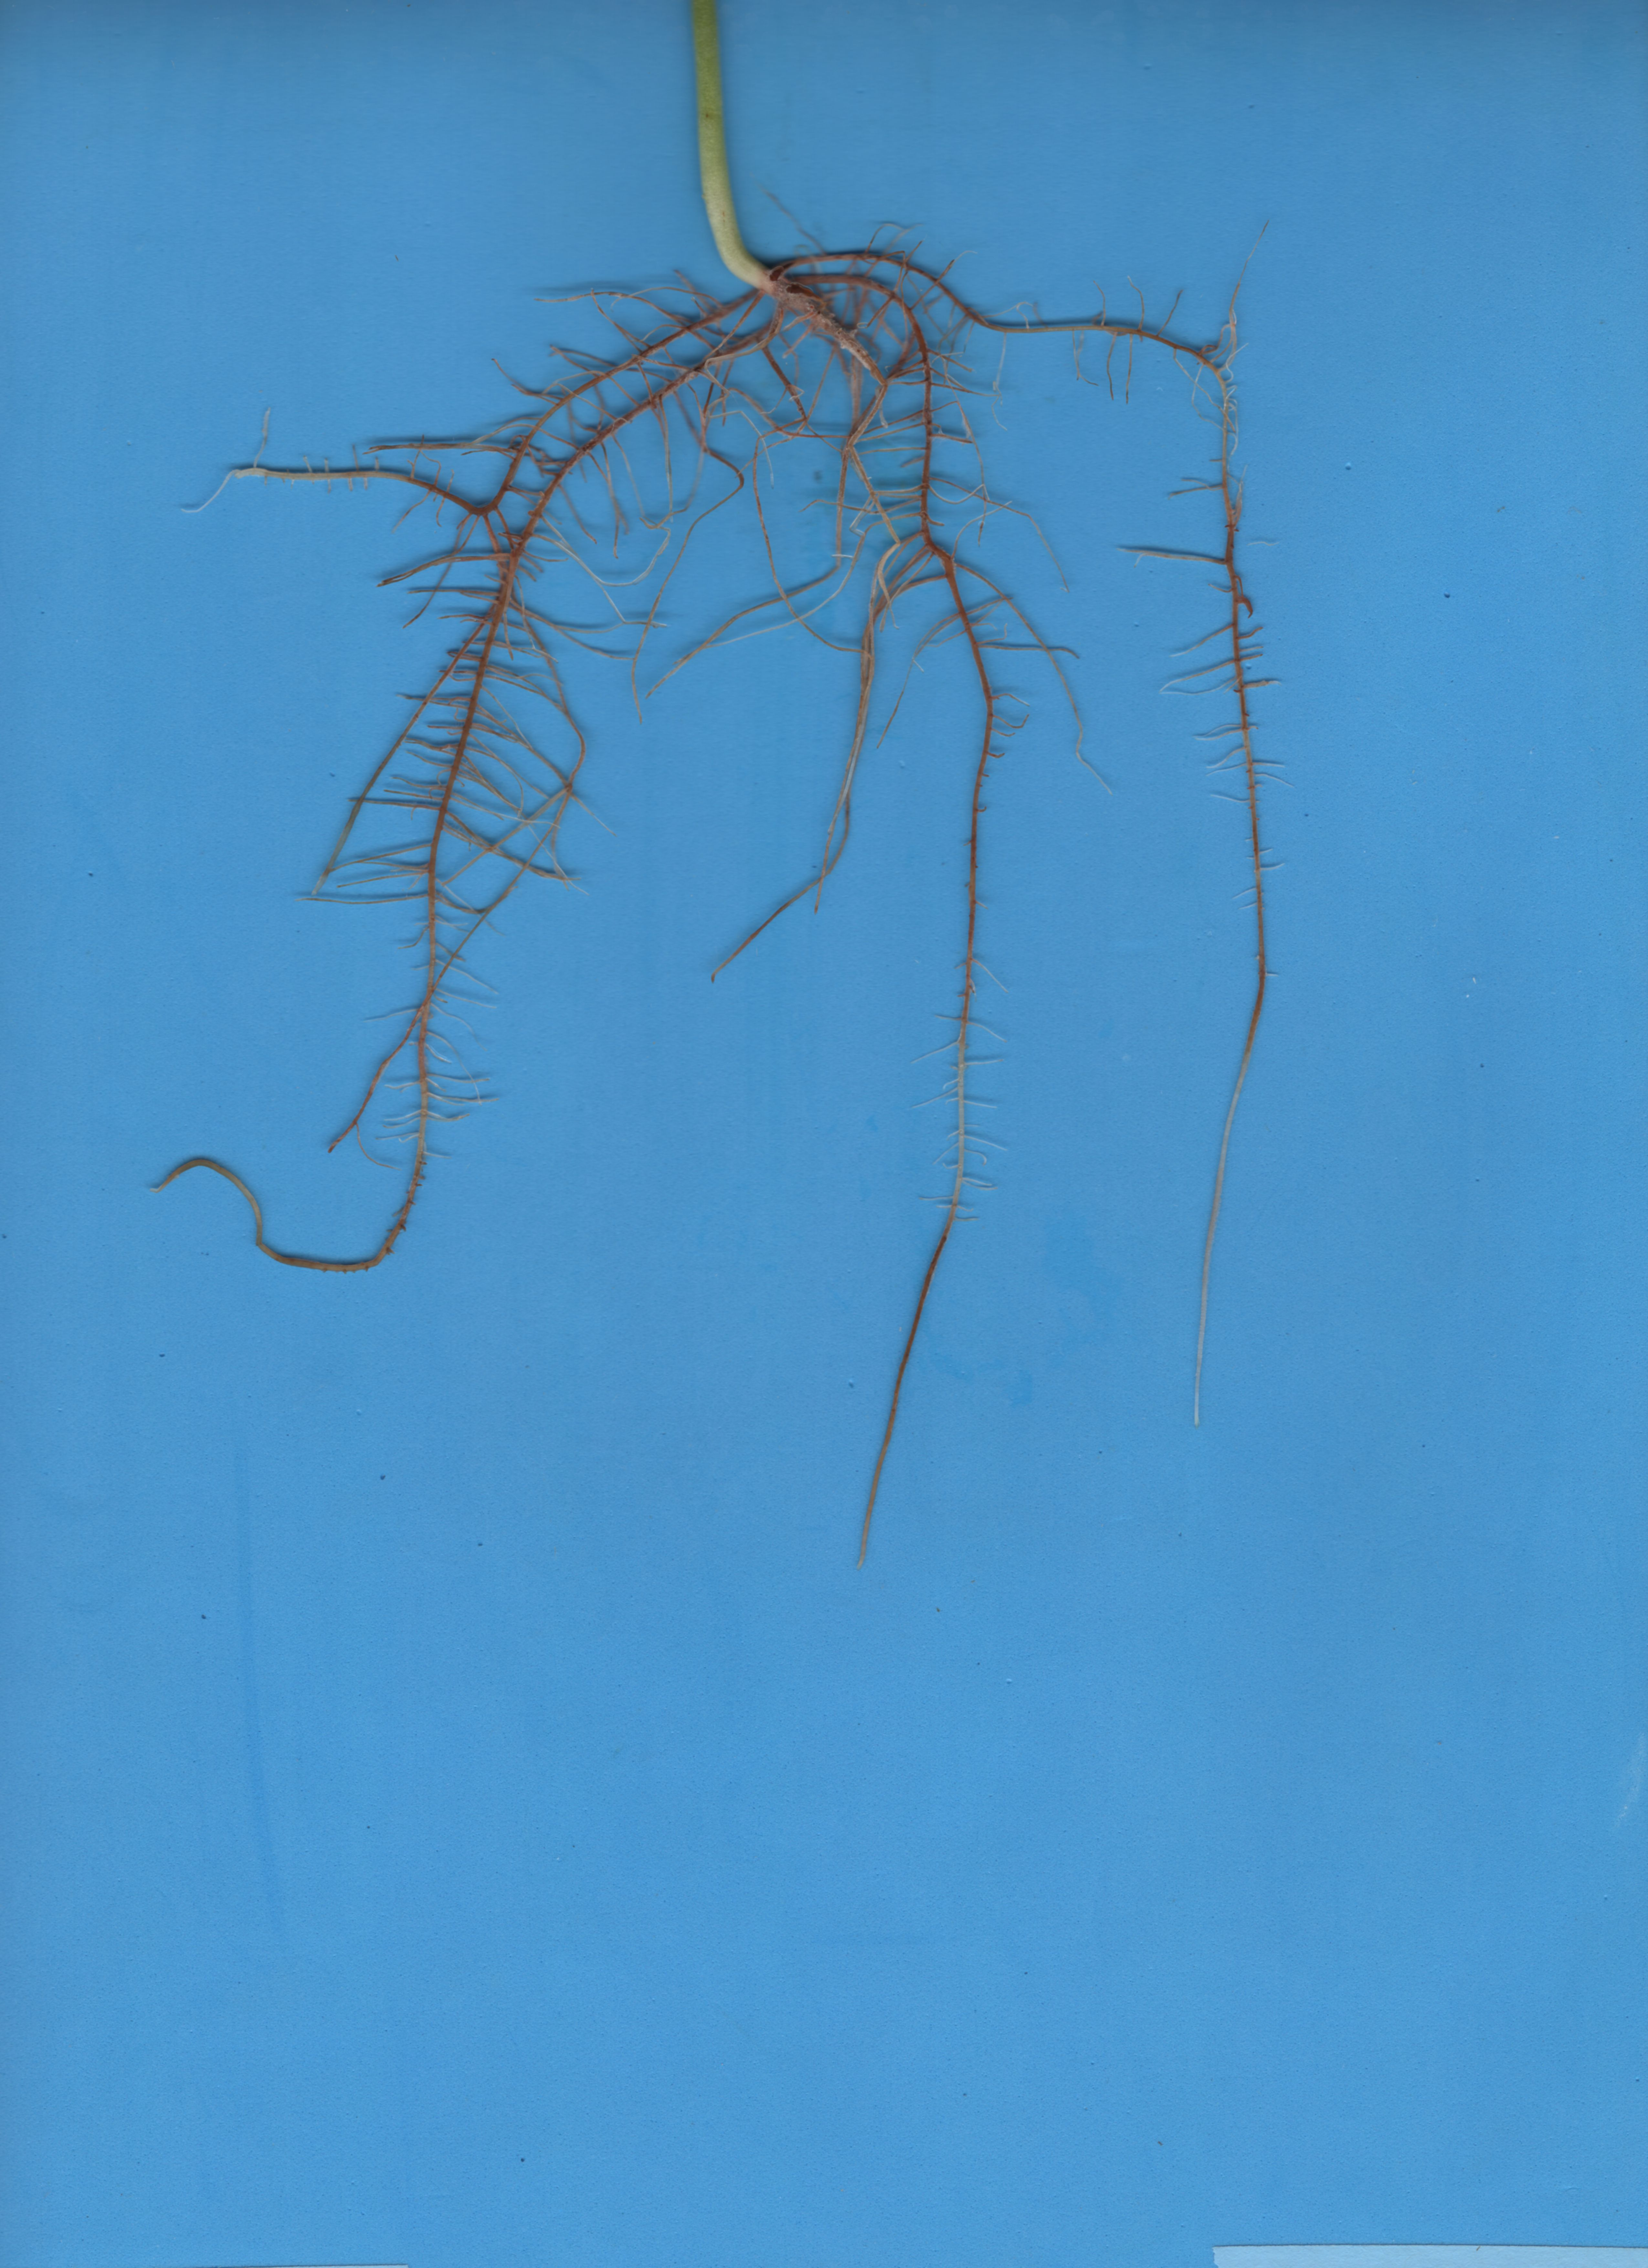CROWNDISEASE: (155, 234, 1472, 1521)
CROWNGOOD: (650, 5, 824, 322)
